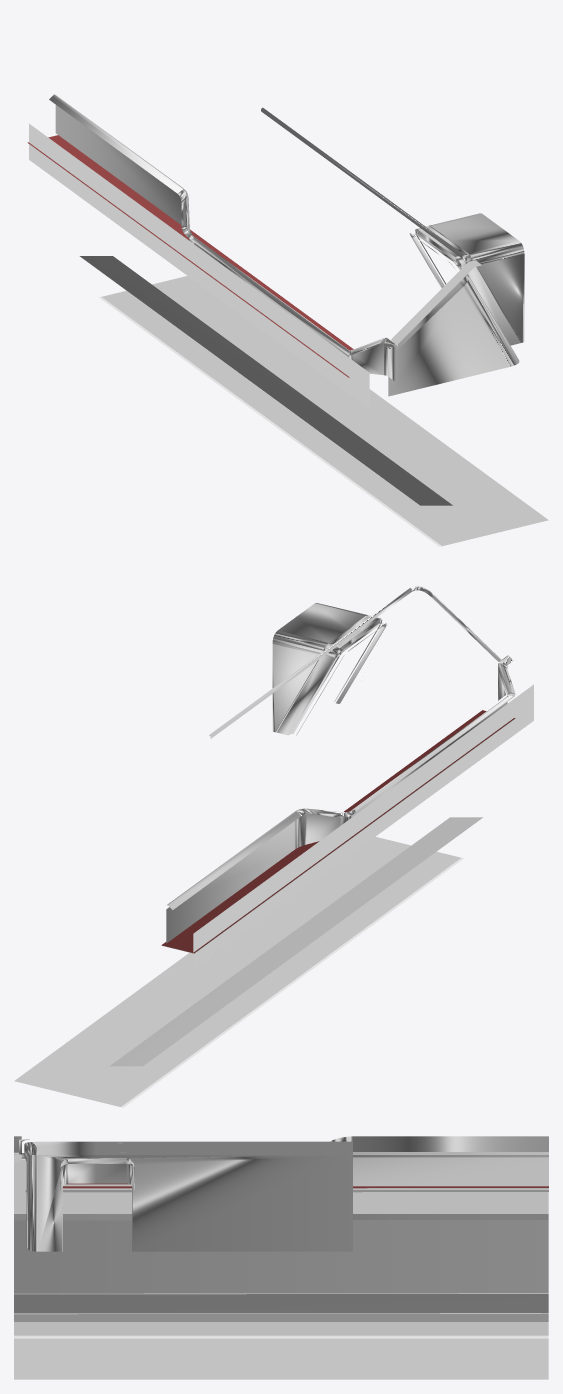
The model's file is plate_trim_32m_extension_b.glb.
The picture shows the model from 3 angles, top to bottom: view 1: azimuth 30°, elevation 25°; view 2: azimuth 150°, elevation 25°; view 3: azimuth 270°, elevation 25°; orthographic projection. The views are drawn at different scales.
Size of the model in its own units: 10.82 by 14.15 by 32.02.
